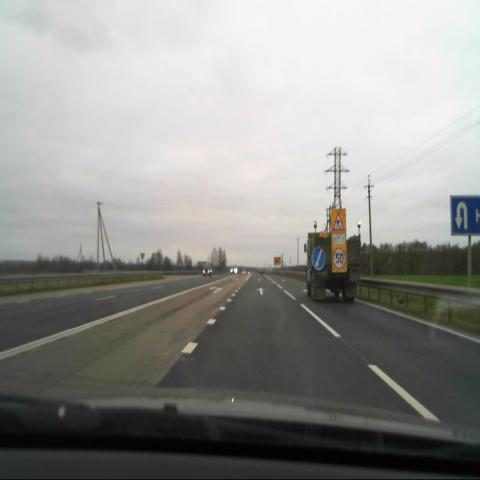1_25: (330, 207, 348, 232)
